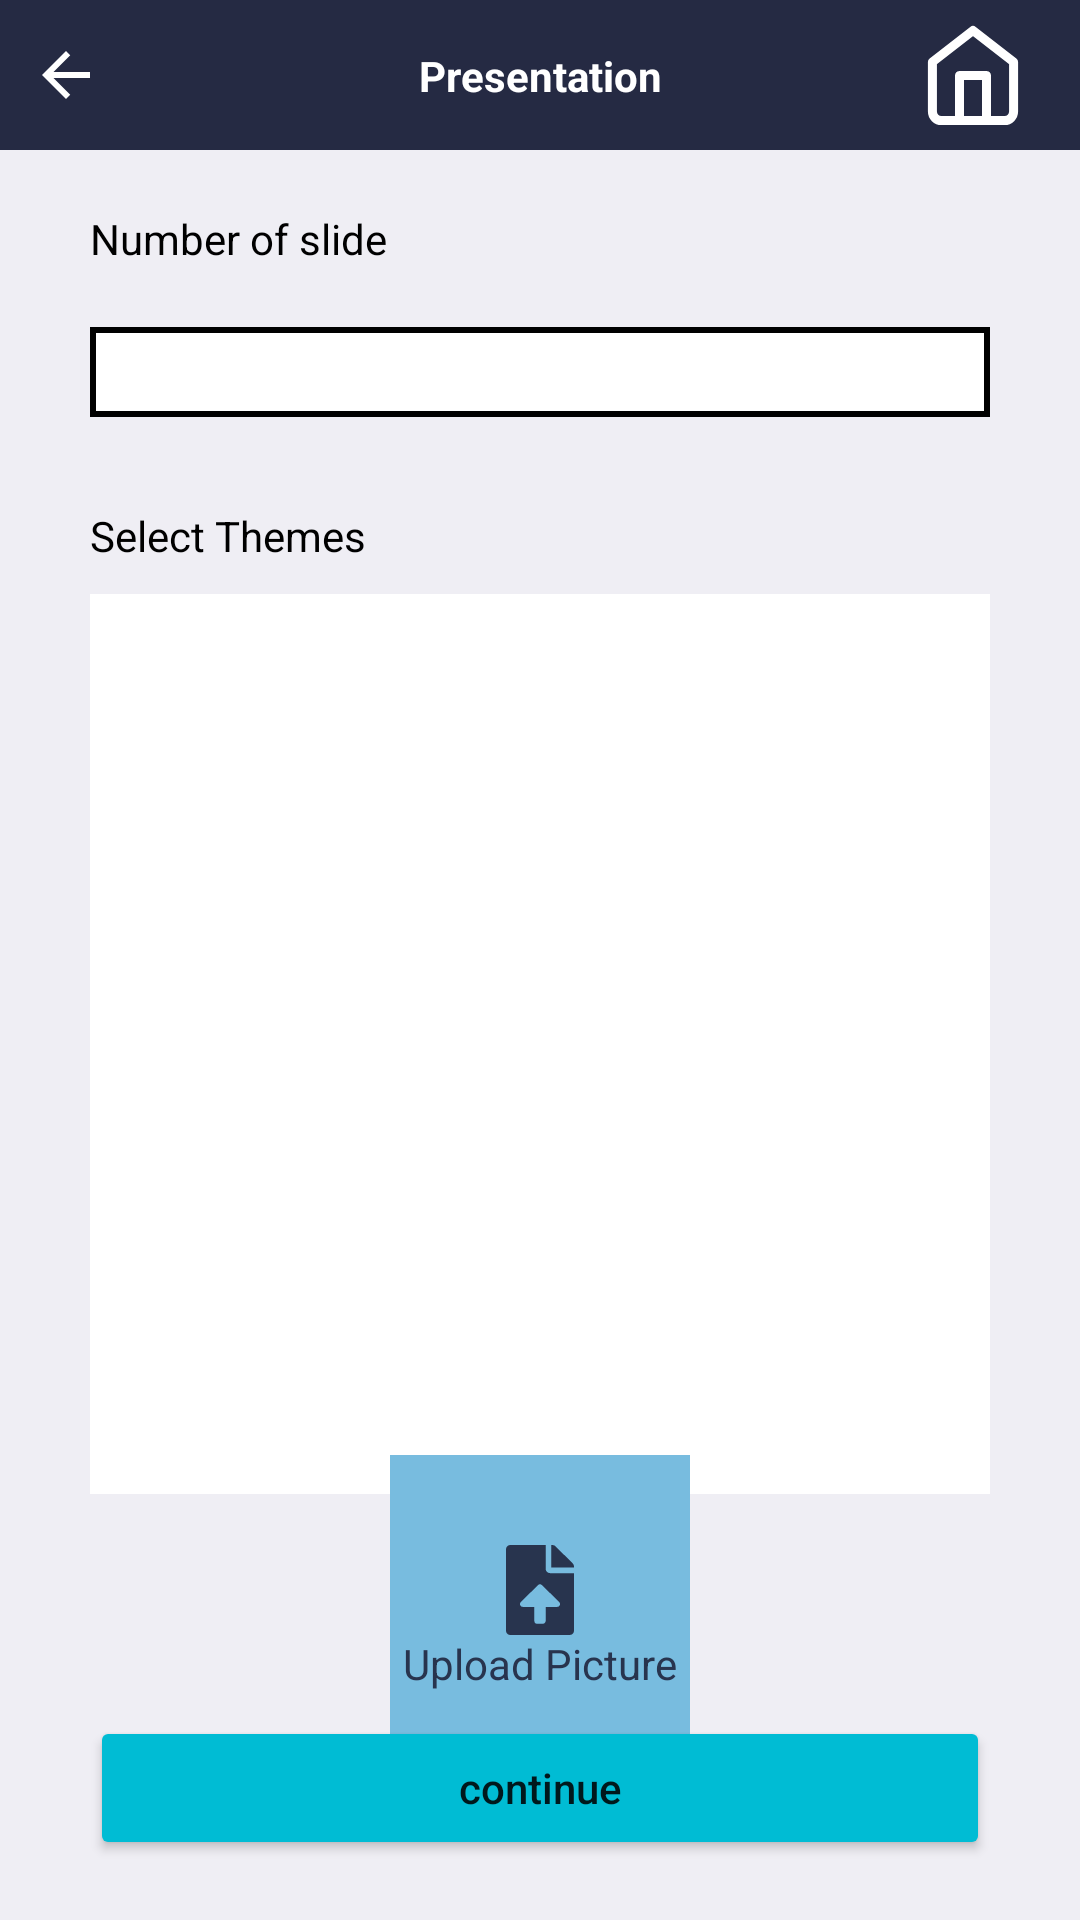

Icon bounding boxes for this 1080x1920 phone screenshot, format (x1, y1, x2, y2):
arrow back: (42, 51, 90, 99)
home: (928, 25, 1018, 125)
